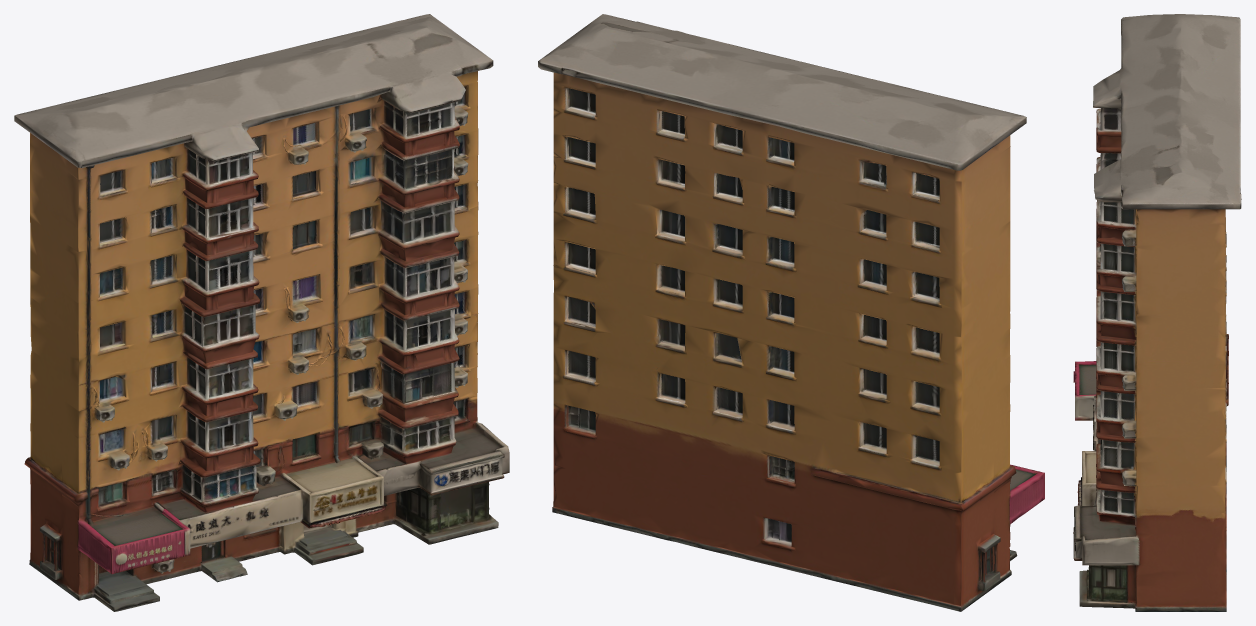
File: tripo_convert_b848c398-d491-425d-8600-5dc5a1aeaf02.fbx
The picture shows the model from 3 angles, left to right: view 1: azimuth 30°, elevation 25°; view 2: azimuth 150°, elevation 25°; view 3: azimuth 270°, elevation 25°; orthographic projection. The views are drawn at different scales.
Visible parts, largest first — view 1: tripo_node_b848c398; view 2: tripo_node_b848c398; view 3: tripo_node_b848c398.
Boxes of the visible parts, <box> form: tripo_node_b848c398: <box>14,14,509,611</box>; tripo_node_b848c398: <box>538,14,1044,611</box>; tripo_node_b848c398: <box>1073,14,1241,611</box>.
Size of the model in its own units: 0.9188 by 0.9794 by 0.349.
1 material, 1 textured.
